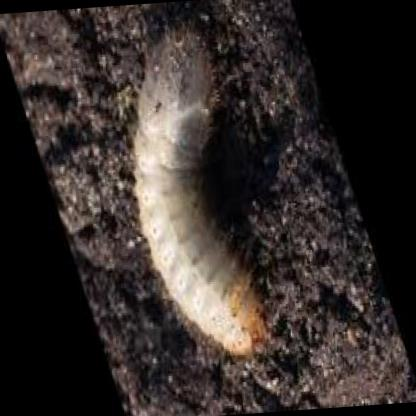root grubs: (137, 21, 270, 356)
